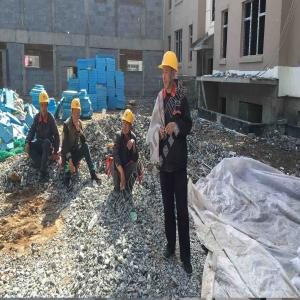yellow: (161, 50, 180, 92), (122, 109, 134, 137), (71, 99, 82, 127), (39, 90, 50, 117)
